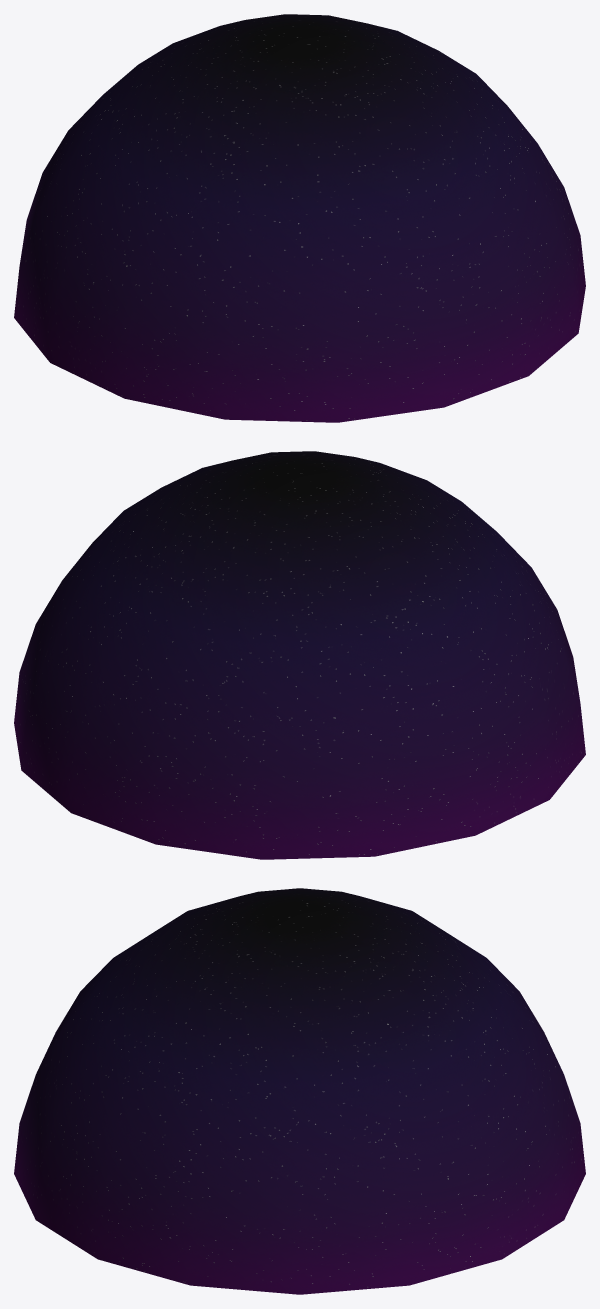
Rendered from NightSkySphere.fbx.
3 renders of one model, top to bottom at view 1: azimuth 30°, elevation 25°; view 2: azimuth 150°, elevation 25°; view 3: azimuth 270°, elevation 25°, orthographic.
Parts seen in each view (by area): view 1: Cube; view 2: Cube; view 3: Cube.
Boxes of the visible parts, x1,y1,x2,y2 form: Cube: [14, 14, 585, 422]; Cube: [14, 451, 585, 859]; Cube: [14, 888, 585, 1294].
Bounding box in the file's own units: 345 × 173 × 345.
Materials: 1 (1 with a texture image).
